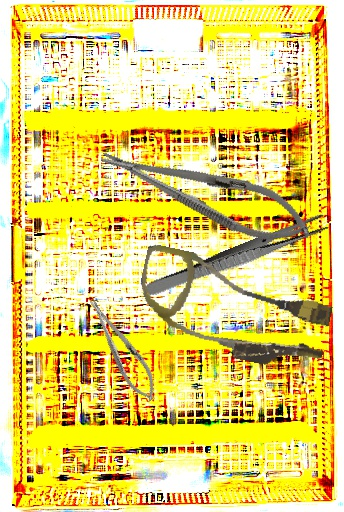Cannula: (129, 242, 338, 377)
Dressing Forceps: (142, 211, 330, 303)
Needle Holder: (93, 128, 320, 258), (79, 291, 166, 408)
